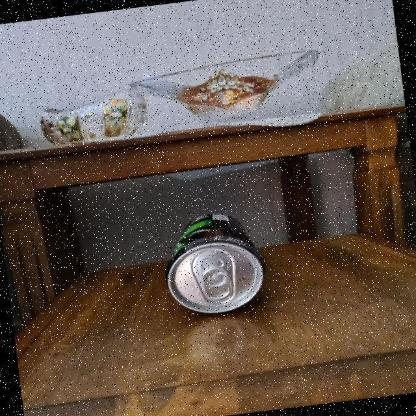Can: (166, 215, 264, 315)
